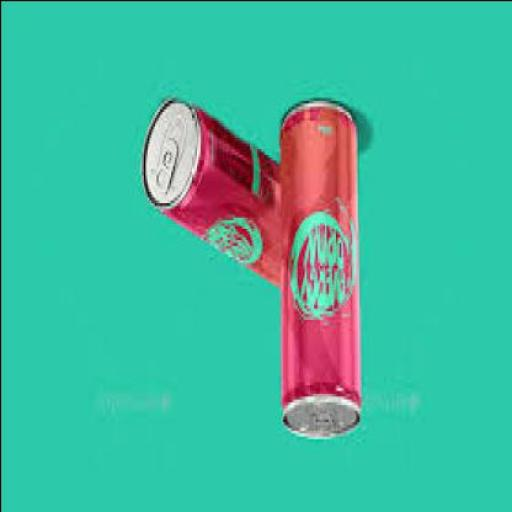metal: (279, 102, 362, 441), (140, 94, 282, 290)
